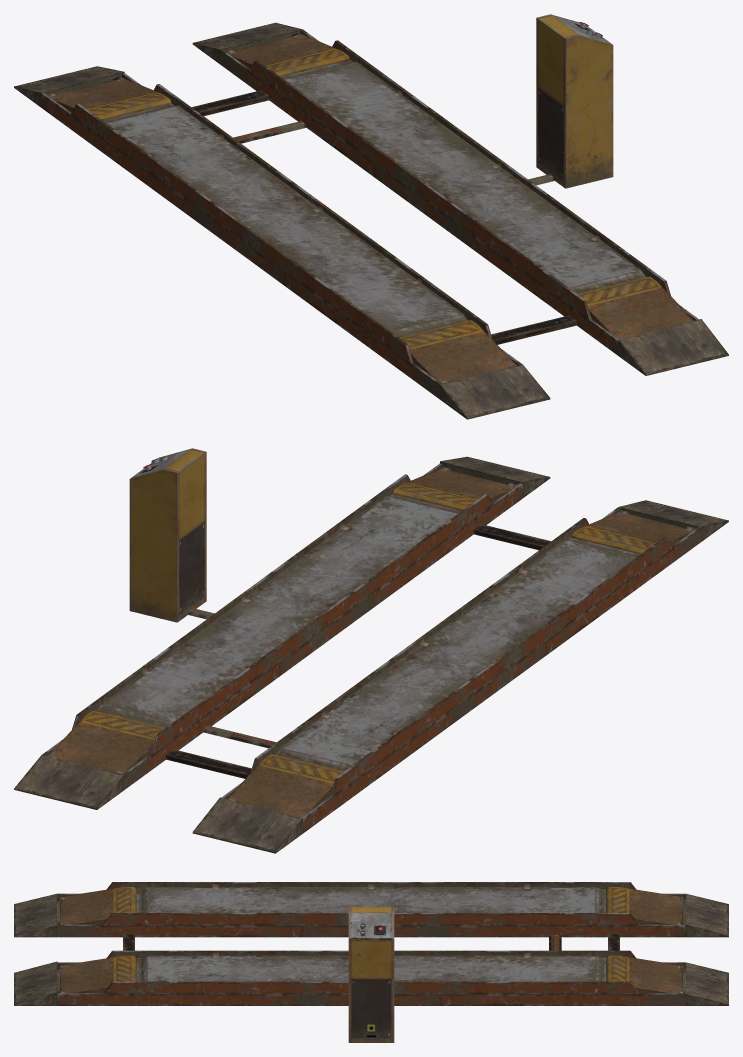
Rendered from carlift.glb.
3 renders of one model, top to bottom at view 1: azimuth 30°, elevation 25°; view 2: azimuth 150°, elevation 25°; view 3: azimuth 270°, elevation 25°, orthographic. The views are drawn at different scales.
Visible parts, largest first — view 1: CarLift; view 2: CarLift; view 3: CarLift.
Part boxes in pixels (left/top/right/bottom): CarLift: left=14, top=14, right=728, bottom=419; CarLift: left=14, top=448, right=728, bottom=853; CarLift: left=14, top=882, right=728, bottom=1042.
Bounding box in the file's own units: 3.19 × 1.27 × 7.
Materials: 1 (1 with a texture image).
